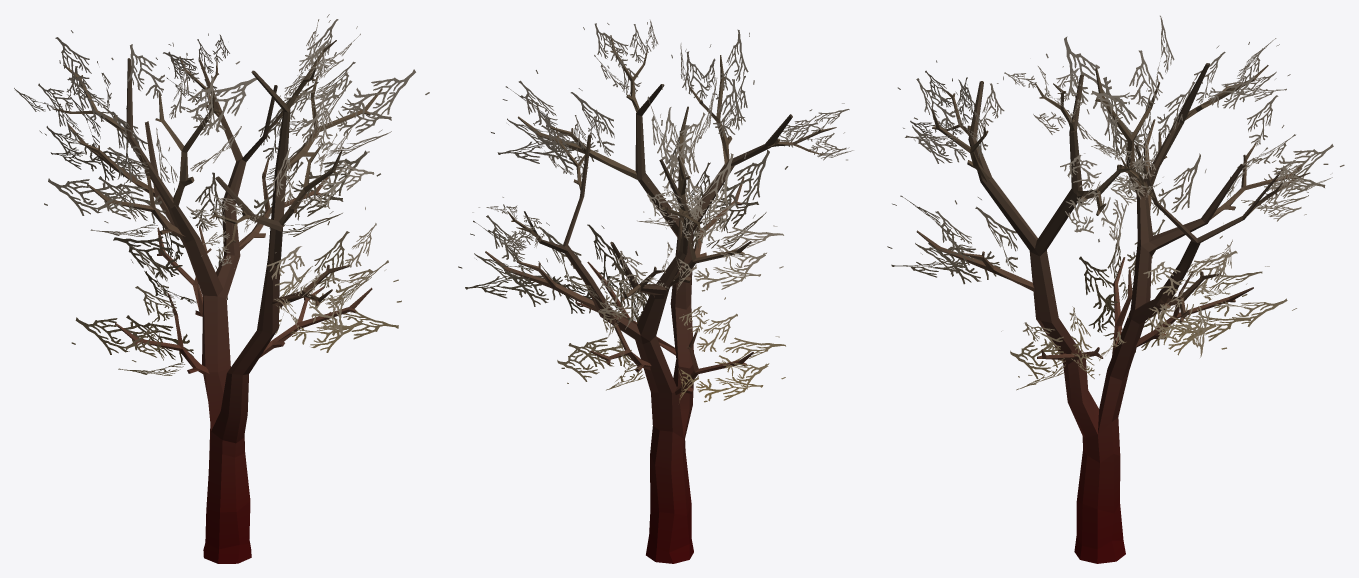
The model's file is source.gltf.
3 renders of one model, left to right at view 1: azimuth 30°, elevation 25°; view 2: azimuth 150°, elevation 25°; view 3: azimuth 270°, elevation 25°, orthographic. The views are drawn at different scales.
Parts seen in each view (by area): view 1: SM_Tree_Generic_Dead_01; view 2: SM_Tree_Generic_Dead_01; view 3: SM_Tree_Generic_Dead_01.
Boxes of the visible parts, x1=… form: SM_Tree_Generic_Dead_01: x1=14, y1=14, x2=429, y2=563; SM_Tree_Generic_Dead_01: x1=458, y1=20, x2=853, y2=563; SM_Tree_Generic_Dead_01: x1=887, y1=15, x2=1344, y2=563.
Size of the model in its own units: 3.56 by 5.33 by 4.11.
2 materials, 2 textured.
